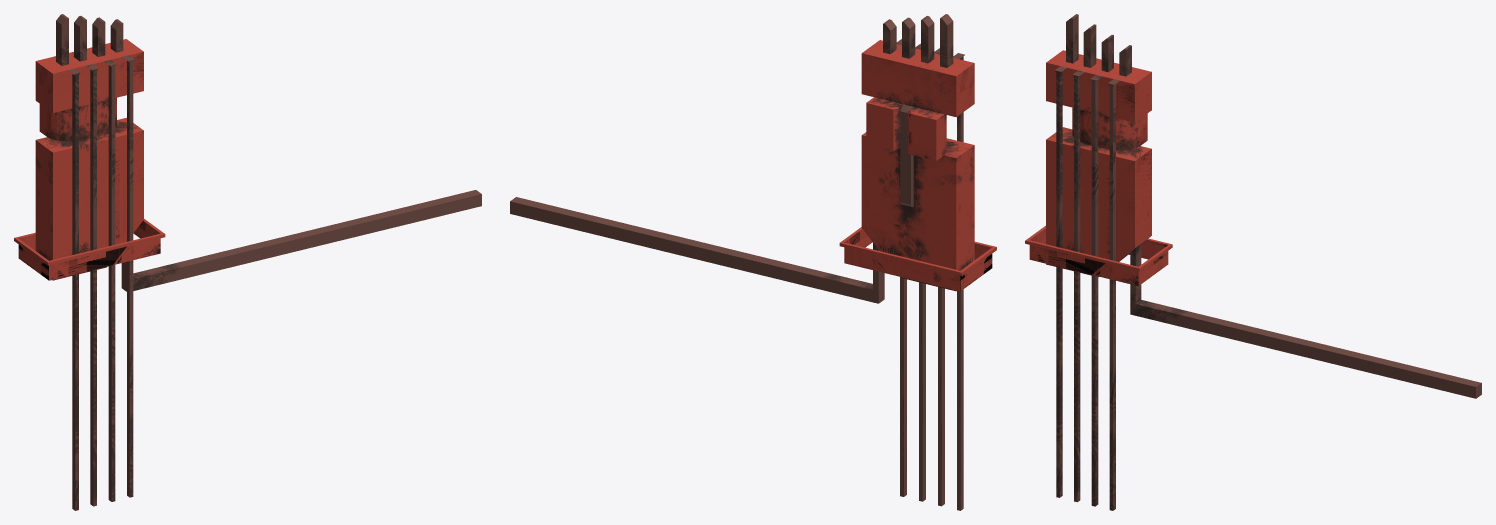
The picture shows the model from 3 angles, left to right: view 1: azimuth 30°, elevation 25°; view 2: azimuth 150°, elevation 25°; view 3: azimuth 330°, elevation 25°; orthographic projection. The views are drawn at different scales.
Visible parts, largest first — view 1: 2x1A; view 2: 2x1A; view 3: 2x1A.
Boxes of the visible parts, <box> form: 2x1A: <box>14,14,481,510</box>; 2x1A: <box>510,14,996,510</box>; 2x1A: <box>1025,14,1481,510</box>.
Size of the model in its own units: 7.63 by 7.86 by 1.
Materials: 2 (2 with a texture image).
